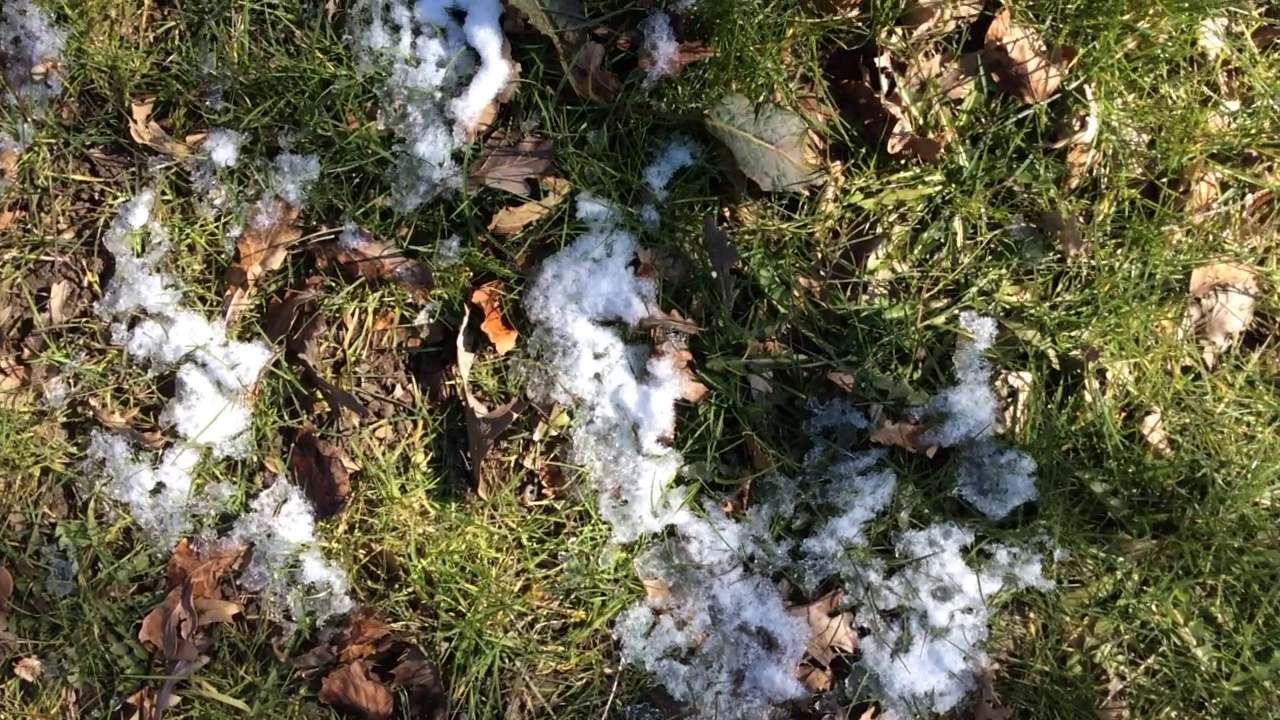root: (633, 94, 727, 151)
rumex: (684, 88, 839, 217)
